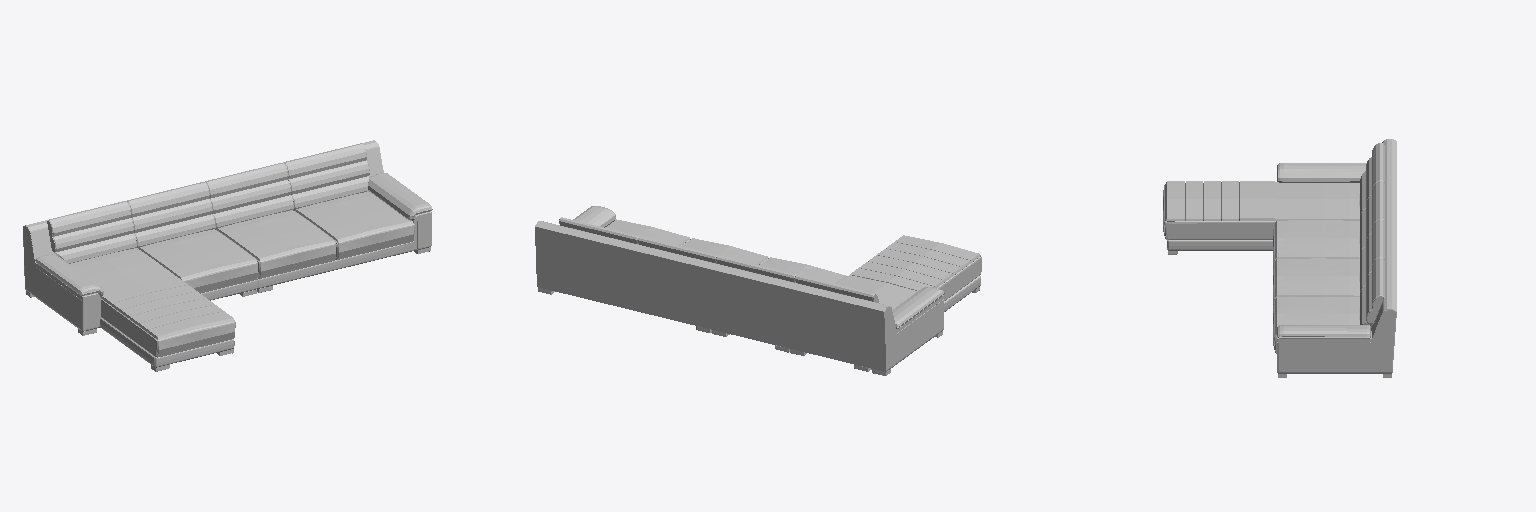
Rendered from Triple_Sofa.obj.
3 renders of one model, left to right at view 1: azimuth 30°, elevation 25°; view 2: azimuth 150°, elevation 25°; view 3: azimuth 270°, elevation 25°, orthographic.
Visible parts, largest first — view 1: triple_sofa_backcushions_Plane.009, triple_sofa_seats_Plane.001, triple_sofa_chaise_Plane.006, triple_sofa_sides_Cube.003, triple_sofa_pillows_Plane.002, triple_sofa_base_Plane.003, triple_sofa_chaisebase_Plane.004, triple_sofa_back_Cube.004; view 2: triple_sofa_back_Cube.004, triple_sofa_chaise_Plane.006, triple_sofa_backcushions_Plane.009, triple_sofa_seats_Plane.001, triple_sofa_sides_Cube.003, triple_sofa_pillows_Plane.002; view 3: triple_sofa_chaise_Plane.006, triple_sofa_seats_Plane.001, triple_sofa_sides_Cube.003, triple_sofa_backcushions_Plane.009, triple_sofa_pillows_Plane.002, triple_sofa_back_Cube.004, triple_sofa_chaisebase_Plane.004.
Boxes of the visible parts, x1,y1,x2,y2 form: triple_sofa_backcushions_Plane.009: [47, 143, 369, 263]; triple_sofa_seats_Plane.001: [139, 191, 414, 293]; triple_sofa_chaise_Plane.006: [69, 248, 235, 357]; triple_sofa_sides_Cube.003: [23, 144, 431, 331]; triple_sofa_pillows_Plane.002: [35, 173, 432, 295]; triple_sofa_base_Plane.003: [35, 211, 431, 327]; triple_sofa_chaisebase_Plane.004: [100, 317, 234, 367]; triple_sofa_back_Cube.004: [25, 140, 383, 262]; triple_sofa_back_Cube.004: [535, 221, 887, 371]; triple_sofa_chaise_Plane.006: [837, 235, 981, 309]; triple_sofa_backcushions_Plane.009: [559, 217, 878, 302]; triple_sofa_seats_Plane.001: [605, 219, 846, 283]; triple_sofa_sides_Cube.003: [535, 221, 943, 371]; triple_sofa_pillows_Plane.002: [573, 206, 944, 328]; triple_sofa_chaise_Plane.006: [1163, 181, 1359, 239]; triple_sofa_seats_Plane.001: [1273, 220, 1359, 353]; triple_sofa_sides_Cube.003: [1277, 309, 1396, 373]; triple_sofa_backcushions_Plane.009: [1360, 143, 1384, 327]; triple_sofa_pillows_Plane.002: [1277, 163, 1370, 338]; triple_sofa_back_Cube.004: [1371, 139, 1396, 345]; triple_sofa_chaisebase_Plane.004: [1167, 240, 1272, 250].
Bounding box in the file's own units: 4.2 × 0.8484 × 2.42.